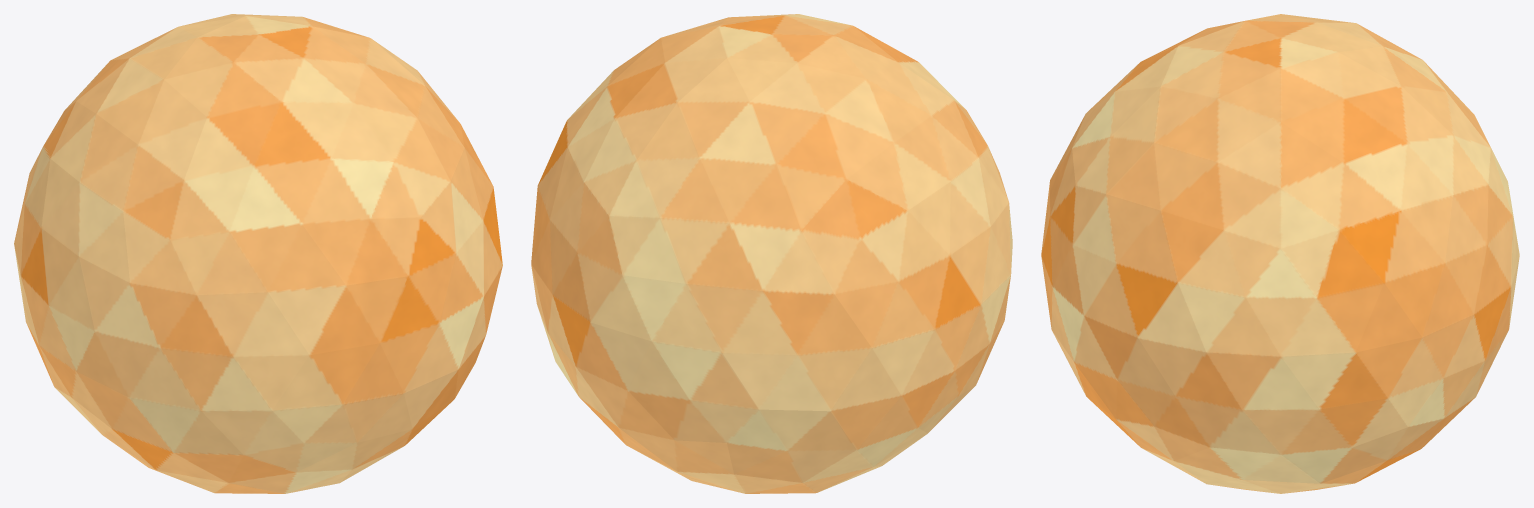
The model's file is sun.glb.
3 renders of one model, left to right at view 1: azimuth 30°, elevation 25°; view 2: azimuth 150°, elevation 25°; view 3: azimuth 270°, elevation 25°, orthographic.
Visible parts, largest first — view 1: Sun; view 2: Sun; view 3: Sun.
Part boxes in pixels (x1=…): Sun: x1=14, y1=14, x2=502, y2=493; Sun: x1=531, y1=14, x2=1012, y2=493; Sun: x1=1041, y1=14, x2=1519, y2=493.
Bounding box in the file's own units: 1.99 × 2 × 1.99.
Materials: 1 (1 with a texture image).
